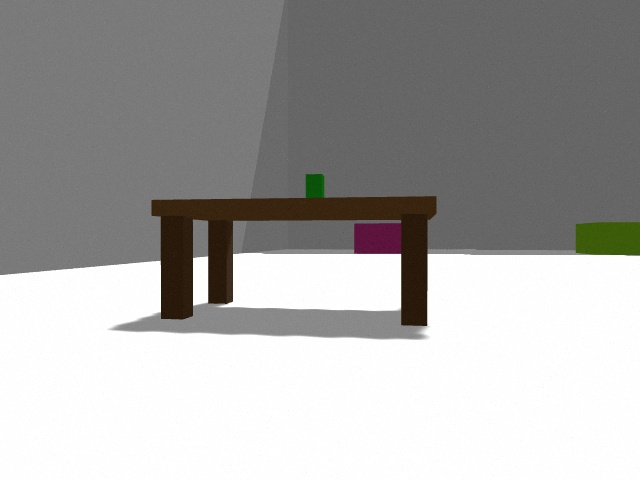green_cube: (306, 174, 324, 197)
green_drop_zone: (576, 222, 640, 255)
red_drop_zone: (354, 223, 401, 254)
